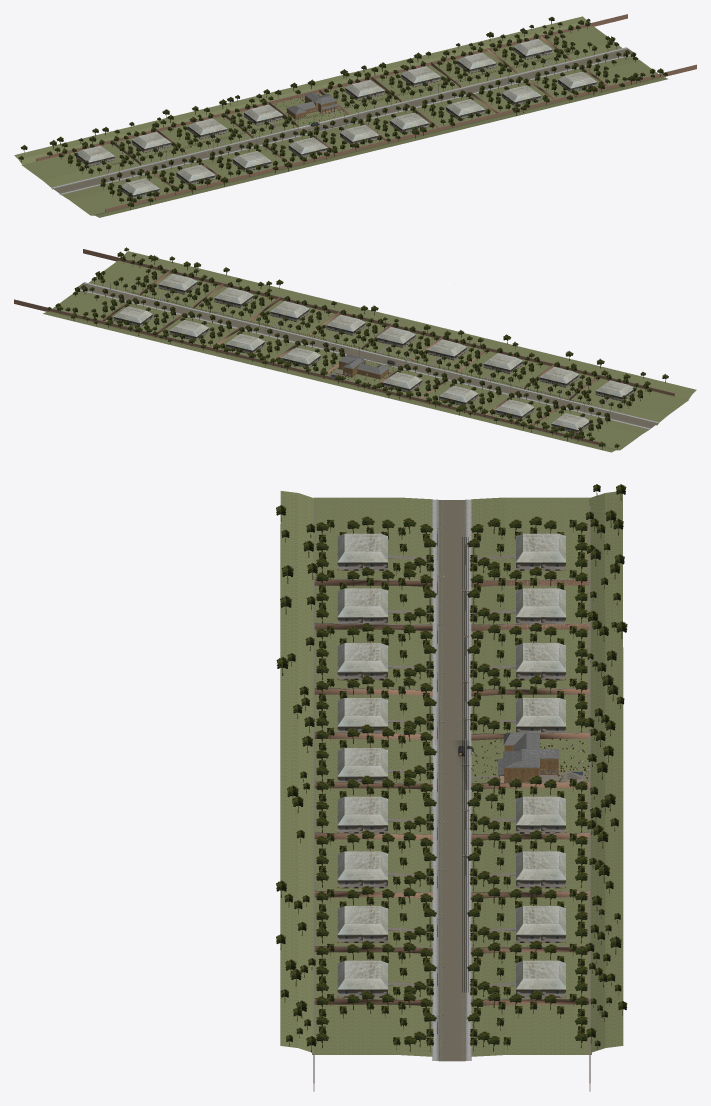
File: abandoned_house.glb
3 views of the same model, one above another, from view 1: azimuth 30°, elevation 25°; view 2: azimuth 150°, elevation 25°; view 3: azimuth 270°, elevation 25° (orthographic). The views are drawn at different scales.
Visible parts, largest first — view 1: Arboles, Arboles.001, Fondo, Plane.069, Plane.067, Carretera, Muro.001, Muro, Casa, Patio, Arboles.002, Carretera.001; view 2: Arboles, Arboles.001, Fondo, Plane.067, Plane.069, Carretera, Muro.001, Muro, Casa, Arboles.002, Carretera.001, Patio; view 3: Arboles, Arboles.001, Plane.069, Fondo, Plane.067, Carretera, Muro, Patio, Casa, Muro.001, Arboles.002, Carretera.001 (+3 smaller).
Part boxes in pixels (x1,y1,x2,y2): Arboles: (14, 16, 668, 217); Arboles.001: (59, 21, 655, 203); Fondo: (76, 39, 597, 198); Plane.069: (323, 26, 661, 138); Plane.067: (22, 110, 384, 215); Carretera: (52, 47, 632, 194); Muro.001: (36, 14, 696, 211); Muro: (112, 35, 609, 190); Casa: (287, 92, 338, 118); Patio: (272, 92, 348, 126); Arboles.002: (313, 117, 382, 150); Carretera.001: (298, 115, 357, 133); Arboles: (43, 247, 696, 452); Arboles.001: (55, 255, 651, 438); Fondo: (113, 273, 634, 433); Plane.067: (362, 332, 688, 450); Plane.069: (49, 260, 387, 373); Carretera: (78, 282, 658, 429); Muro.001: (14, 249, 674, 446); Muro: (101, 270, 599, 424); Casa: (334, 354, 389, 379); Arboles.002: (364, 322, 438, 357); Carretera.001: (354, 350, 412, 368); Patio: (326, 360, 397, 386); Arboles: (276, 484, 627, 1052); Arboles.001: (316, 516, 587, 1051); Plane.069: (312, 788, 591, 1056); Fondo: (337, 533, 565, 997); Plane.067: (314, 497, 589, 783); Carretera: (432, 499, 471, 1061); Muro: (314, 579, 589, 1006); Patio: (471, 739, 589, 783); Casa: (498, 732, 559, 782); Muro.001: (313, 505, 590, 1091); Arboles.002: (316, 724, 436, 782); Carretera.001: (432, 740, 471, 789).
Size of the model in its own units: 525 by 14.96 by 204.
77 materials, 70 textured.
